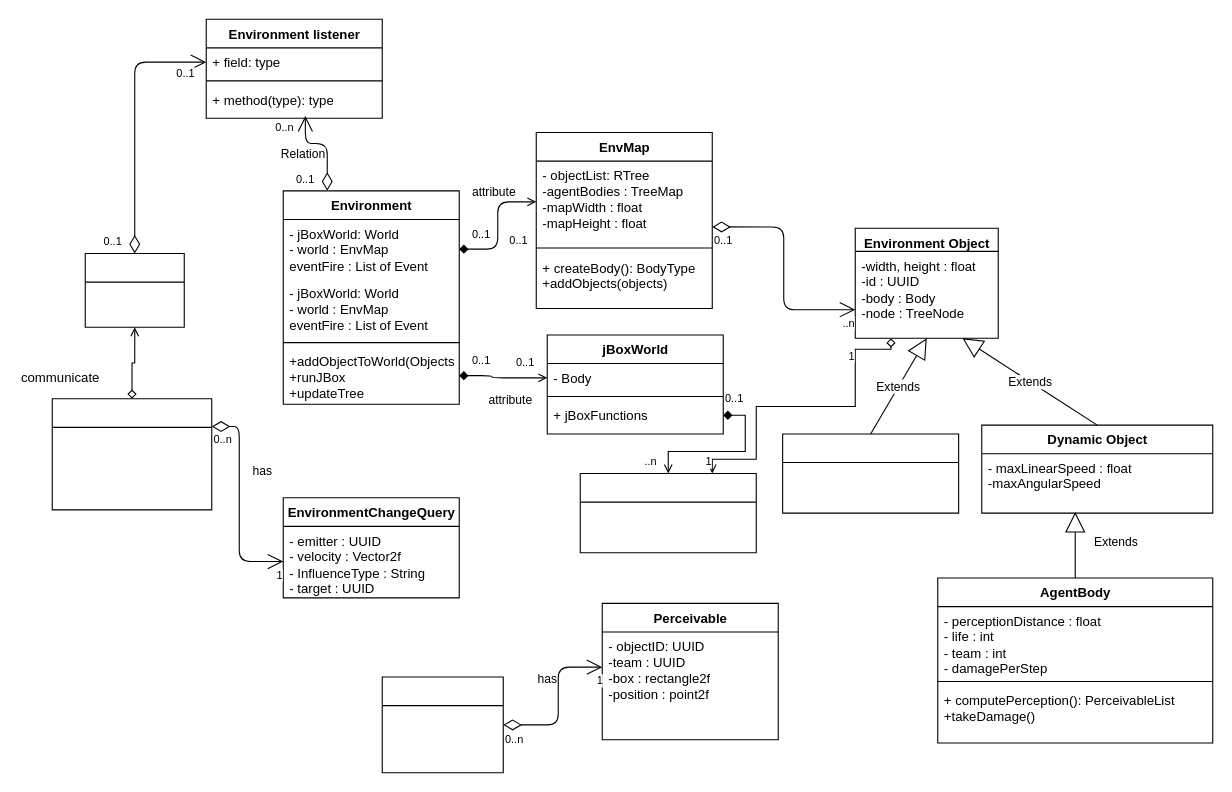
The diagram is 1232 pixels wide and 792 high, and some of its shapes have lost their labels. Here are the shapes that lost their labels. From the top down, the centre of each, then its label:
At point 134,289: "GUI".
At point 131,454: "Environment Agent".
At point 870,473: "Static Object".
At point 667,512: "Body".
At point 442,724: "Agent".
